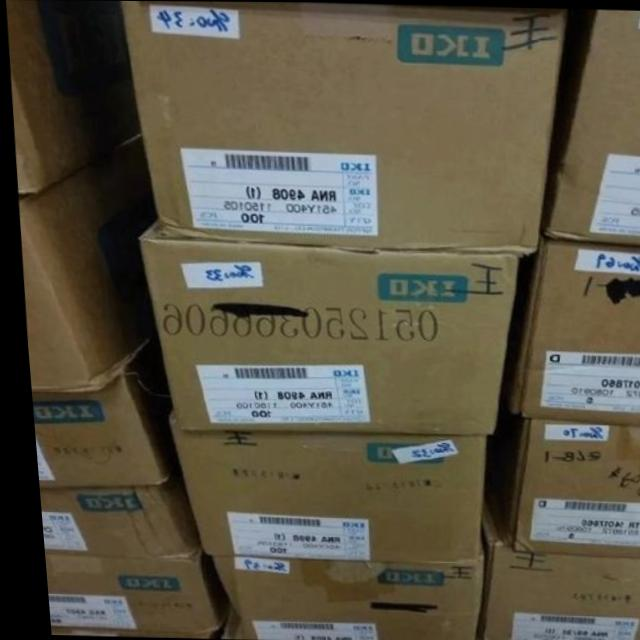box: (121, 1, 565, 256), (136, 222, 513, 435), (161, 410, 479, 561), (15, 133, 151, 392), (493, 233, 640, 426), (474, 400, 640, 558), (6, 0, 137, 193), (465, 498, 640, 640), (537, 8, 640, 244), (200, 555, 474, 640), (25, 333, 169, 488), (36, 546, 219, 633), (31, 460, 192, 558)
